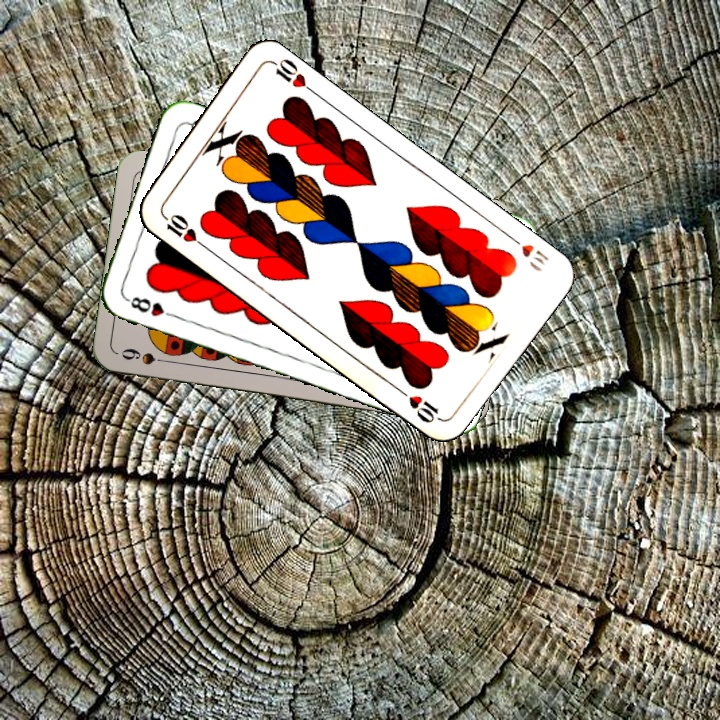H10: (157, 209, 208, 250), (503, 230, 552, 269)
H8: (122, 292, 180, 321)
S9: (117, 344, 175, 367)
